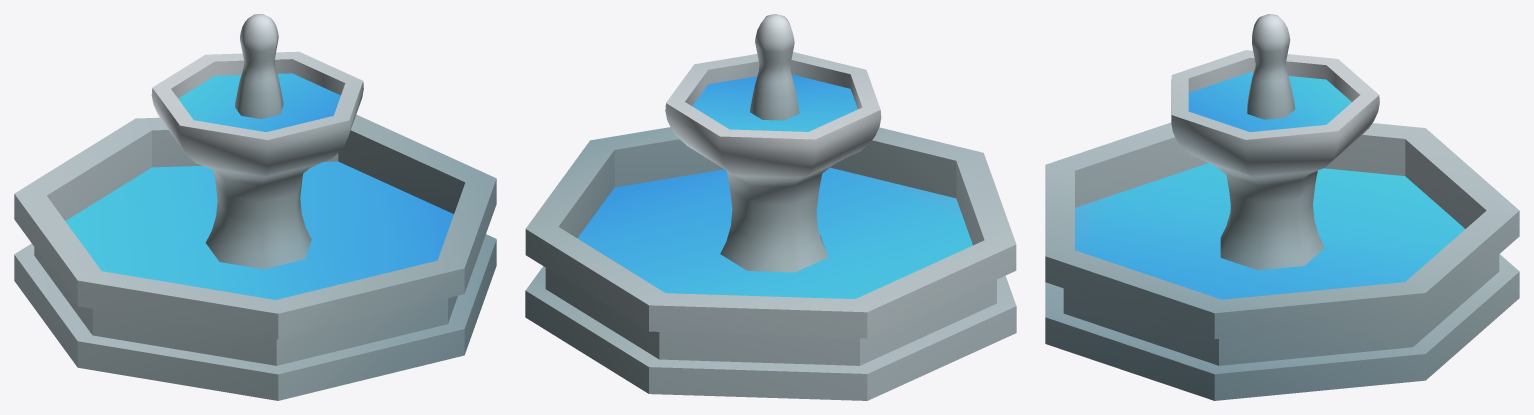
Rendered from fountain.glb.
The picture shows the model from 3 angles, left to right: view 1: azimuth 30°, elevation 25°; view 2: azimuth 150°, elevation 25°; view 3: azimuth 270°, elevation 25°; orthographic projection.
Visible parts, largest first — view 1: font 1, font 2, font 3; view 2: font 1, font 2, font 3; view 3: font 1, font 2, font 3.
Boxes of the visible parts, x1=… form: font 1: x1=14, y1=114, x2=496, y2=400; font 2: x1=151, y1=51, x2=363, y2=269; font 3: x1=235, y1=14, x2=283, y2=119; font 1: x1=525, y1=127, x2=1016, y2=400; font 2: x1=665, y1=52, x2=881, y2=272; font 3: x1=750, y1=14, x2=799, y2=120; font 1: x1=1045, y1=122, x2=1519, y2=400; font 2: x1=1171, y1=50, x2=1379, y2=270; font 3: x1=1247, y1=14, x2=1295, y2=119.
Size of the model in its own units: 0.2832 by 0.1815 by 0.2761.
1 material, 1 textured.
